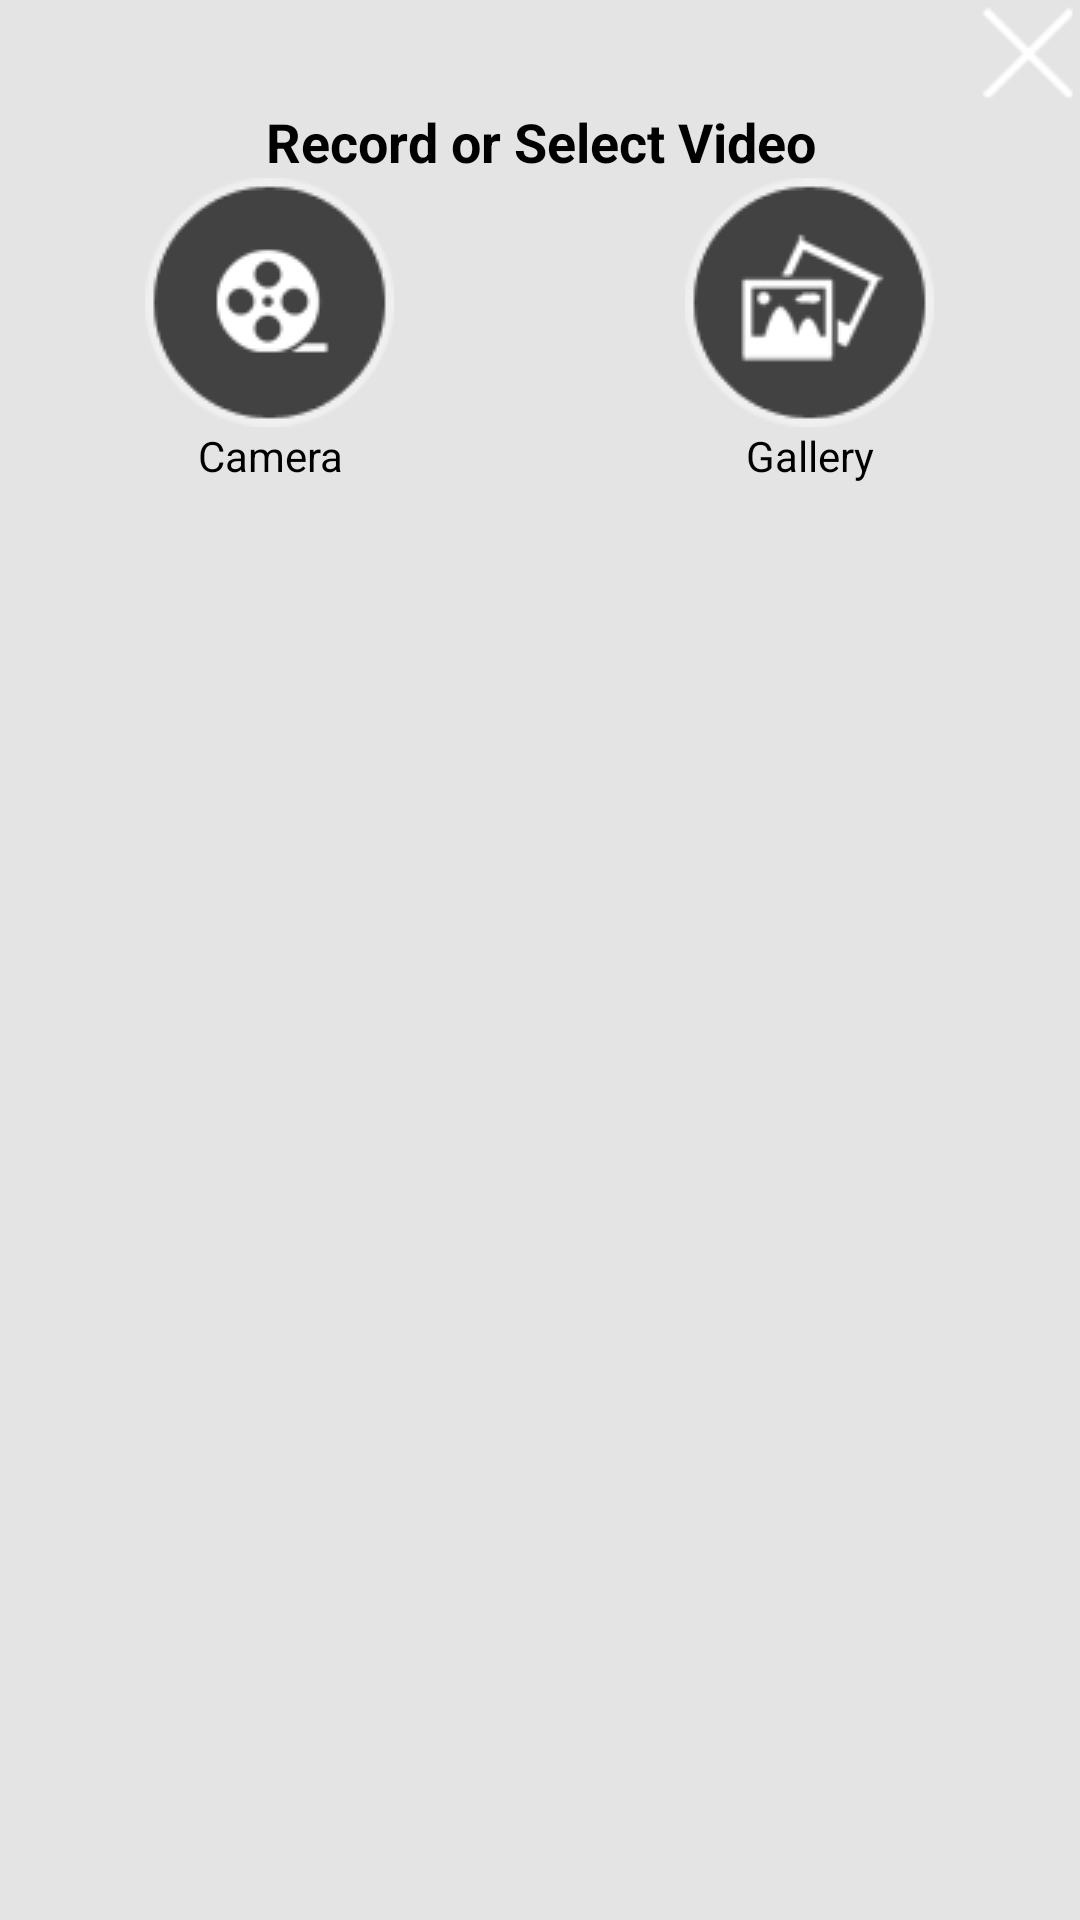

Locate icon controls on the screen. Image size 1080px×1920px, boxes as [x1, y1, x2, y2].
close: [986, 11, 1071, 96]
